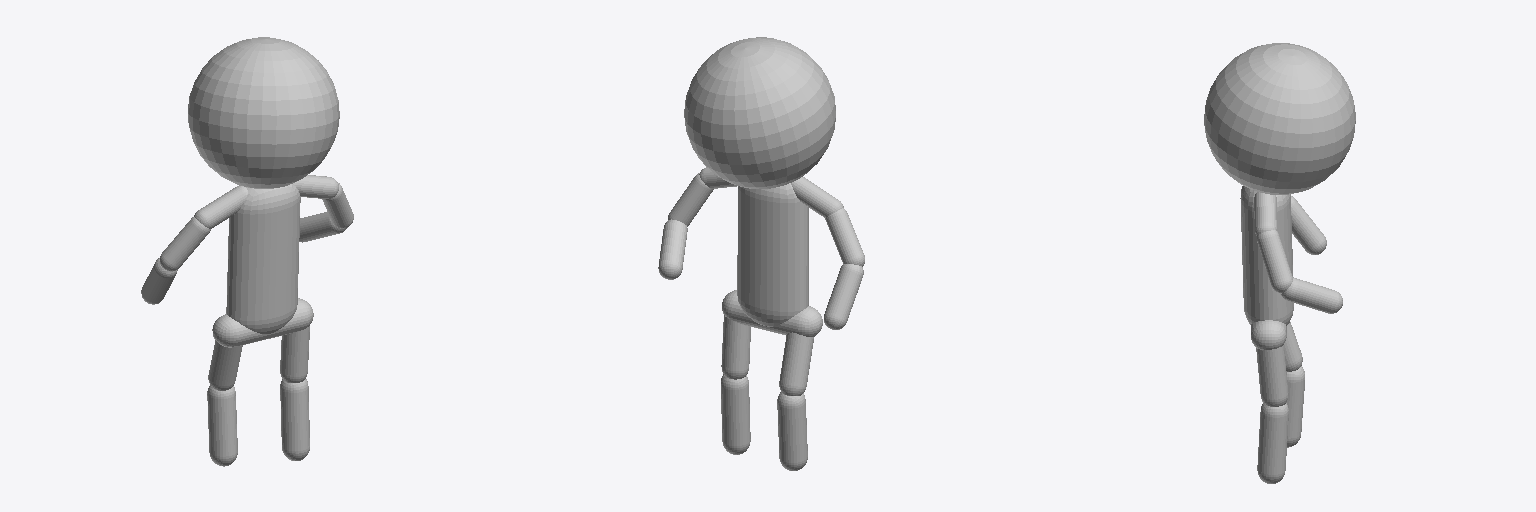
File: Stickman_000041.obj
The picture shows the model from 3 angles: view 1: azimuth 30°, elevation 25°; view 2: azimuth 150°, elevation 25°; view 3: azimuth 270°, elevation 25°; orthographic projection.
Parts seen in each view (by area): view 1: Head_Sphere.001, Body_Roundcube.002, LowerLegLeft_Roundcube.013, LowerLegRight_Roundcube.011, Hip_Roundcube.005, UpperLegLeft_Roundcube.012, UpperArmRight_Roundcube.015, UpperLegRight_Roundcube.010, ShoulderRight_Roundcube.014, LowerArmRight_Roundcube.016, LowerArmLeft_Roundcube.019, ShoulderLeft_Roundcube.017 (+1 smaller); view 2: Head_Sphere.001, Body_Roundcube.002, LowerLegLeft_Roundcube.013, LowerLegRight_Roundcube.011, UpperLegRight_Roundcube.010, Hip_Roundcube.005, LowerArmRight_Roundcube.016, UpperLegLeft_Roundcube.012, LowerArmLeft_Roundcube.019, UpperArmRight_Roundcube.015, UpperArmLeft_Roundcube.018, ShoulderRight_Roundcube.014; view 3: Head_Sphere.001, Body_Roundcube.002, LowerLegLeft_Roundcube.013, UpperLegLeft_Roundcube.012, UpperArmLeft_Roundcube.018, LowerArmLeft_Roundcube.019, LowerLegRight_Roundcube.011, LowerArmRight_Roundcube.016, Hip_Roundcube.005, ShoulderLeft_Roundcube.017, UpperLegRight_Roundcube.010.
Part boxes in pixels (x1,y1,x2,y2): Head_Sphere.001: (188,37,339,188); Body_Roundcube.002: (226,184,300,333); LowerLegLeft_Roundcube.013: (280,379,309,460); LowerLegRight_Roundcube.011: (207,385,237,466); Hip_Roundcube.005: (212,298,313,347); UpperLegLeft_Roundcube.012: (280,326,309,382); UpperArmRight_Roundcube.015: (160,217,210,271); UpperLegRight_Roundcube.010: (208,340,242,390); ShoulderRight_Roundcube.014: (194,185,247,228); LowerArmRight_Roundcube.016: (141,258,177,304); LowerArmLeft_Roundcube.019: (299,212,346,242); ShoulderLeft_Roundcube.017: (293,175,338,198); Head_Sphere.001: (684,37,835,188); Body_Roundcube.002: (737,183,808,326); LowerLegLeft_Roundcube.013: (721,374,750,454); LowerLegRight_Roundcube.011: (777,392,807,470); UpperLegRight_Roundcube.010: (779,332,813,395); Hip_Roundcube.005: (722,290,822,336); LowerArmRight_Roundcube.016: (824,264,863,329); UpperLegLeft_Roundcube.012: (721,315,750,379); LowerArmLeft_Roundcube.019: (658,219,687,279); UpperArmRight_Roundcube.015: (825,208,864,266); UpperArmLeft_Roundcube.018: (668,173,713,226); ShoulderRight_Roundcube.014: (791,177,843,217); Head_Sphere.001: (1204,43,1355,194); Body_Roundcube.002: (1240,186,1293,325); LowerLegLeft_Roundcube.013: (1257,403,1288,483); UpperLegLeft_Roundcube.012: (1256,345,1288,406); UpperArmLeft_Roundcube.018: (1257,230,1292,293); LowerArmLeft_Roundcube.019: (1280,277,1342,313); LowerLegRight_Roundcube.011: (1286,366,1304,447); LowerArmRight_Roundcube.016: (1291,196,1326,254); Hip_Roundcube.005: (1251,320,1286,349); ShoulderLeft_Roundcube.017: (1254,192,1276,235); UpperLegRight_Roundcube.010: (1284,322,1302,371).
Bounding box in the file's own units: 5.6 × 11.53 × 3.79.